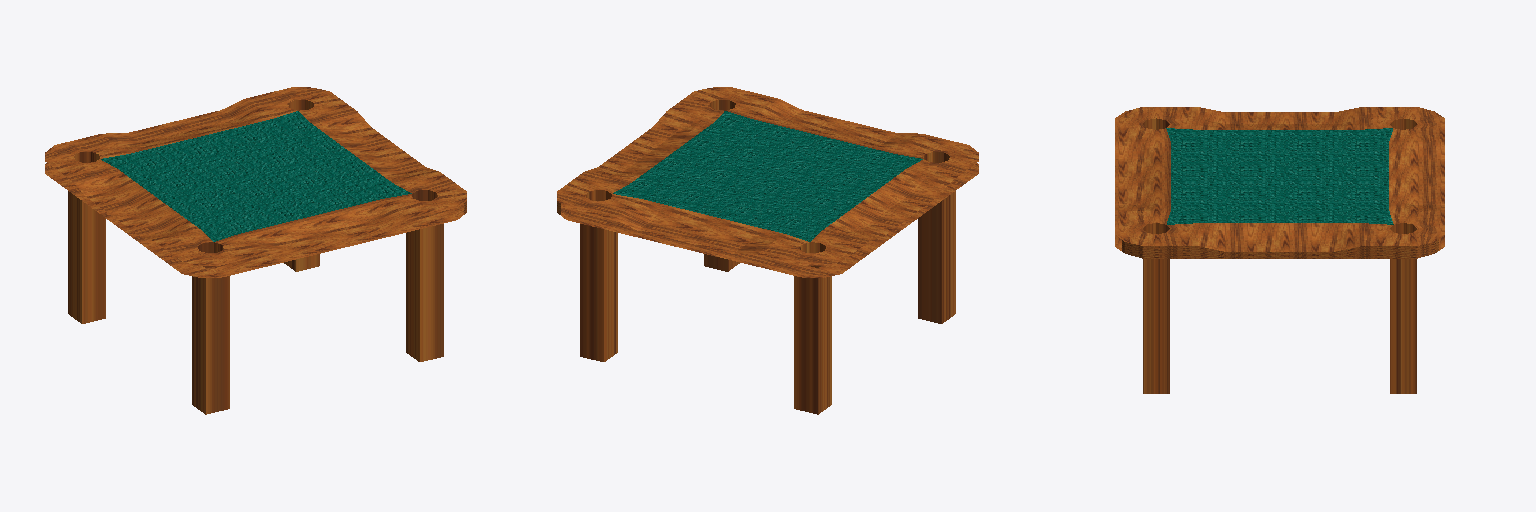
3 renders of one model, left to right at view 1: azimuth 30°, elevation 25°; view 2: azimuth 150°, elevation 25°; view 3: azimuth 270°, elevation 25°, orthographic.
Visible parts, largest first — view 1: Cube; view 2: Cube; view 3: Cube.
Boxes of the visible parts, box(x1,y1,x2,y2) form: Cube: box(45, 87, 466, 414); Cube: box(557, 87, 978, 414); Cube: box(1115, 107, 1444, 393).
Size of the model in its own units: 48 by 25.56 by 48.
1 materials, 1 textured.